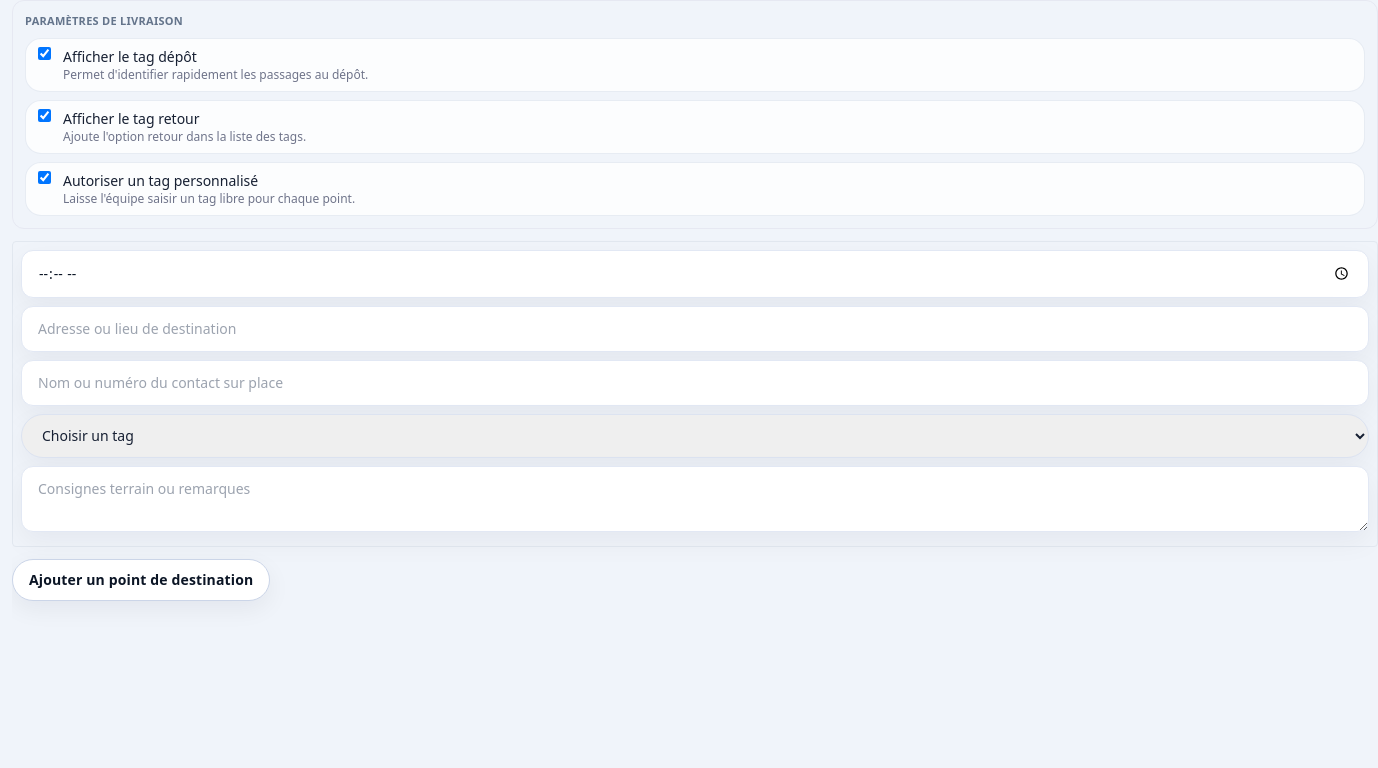
Test: DeliveryForm runtime › shows the custom tag field only when the custom tag option is selected
The width and height of the screenshot is (1378, 768).
expect the field with placeholder "Saisir un tag personnalisé" is not shown: met
Select "Personnalisé" in the dropdown named "Tag trajet". click: (695,436)
box: [21, 414, 1369, 458]
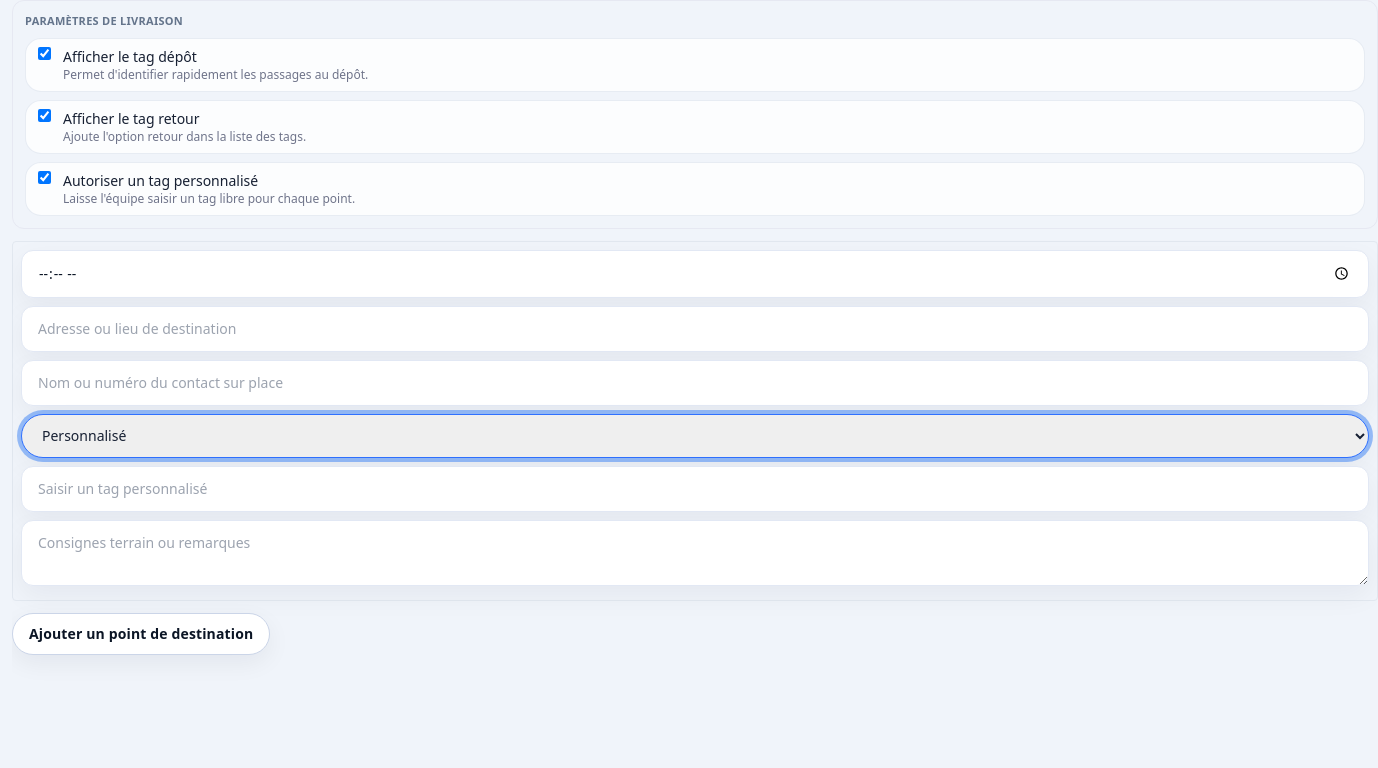
expect the field with placeholder "Saisir un tag personnalisé" is shown: met, box [21, 466, 1369, 512]
